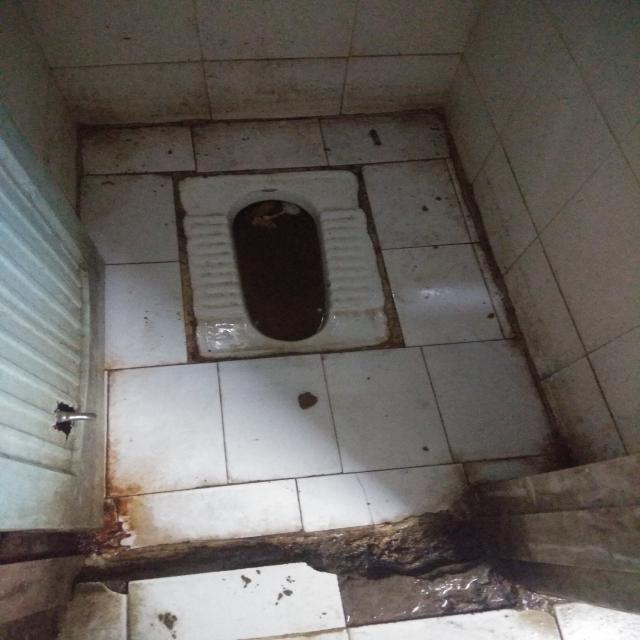dirty_floor: (77, 106, 567, 557), (172, 163, 402, 361), (229, 195, 330, 342)
